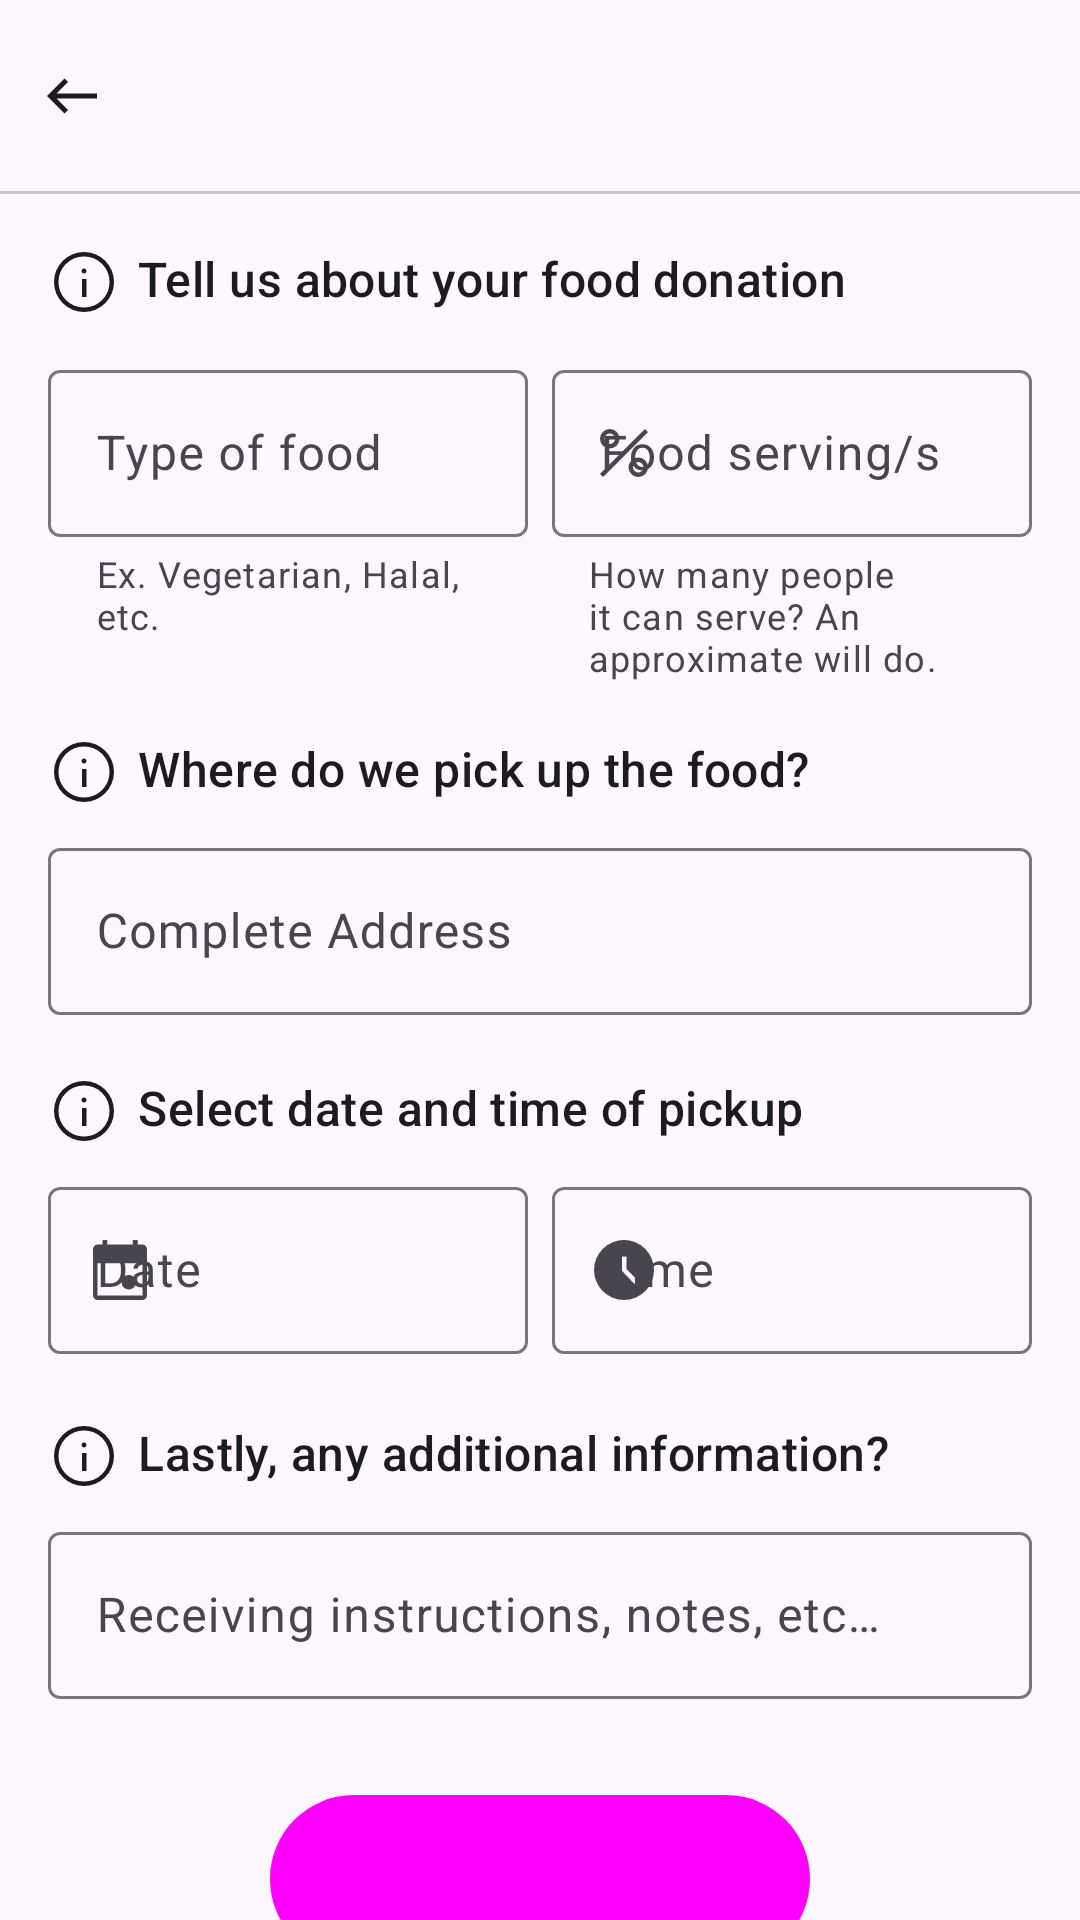

Locate icon controls on the screen. Image size 1080 x 1920, boxes as [left=x1, top=y1, right=x2, bottom=y2].
arrow back: [left=47, top=78, right=97, bottom=114]
